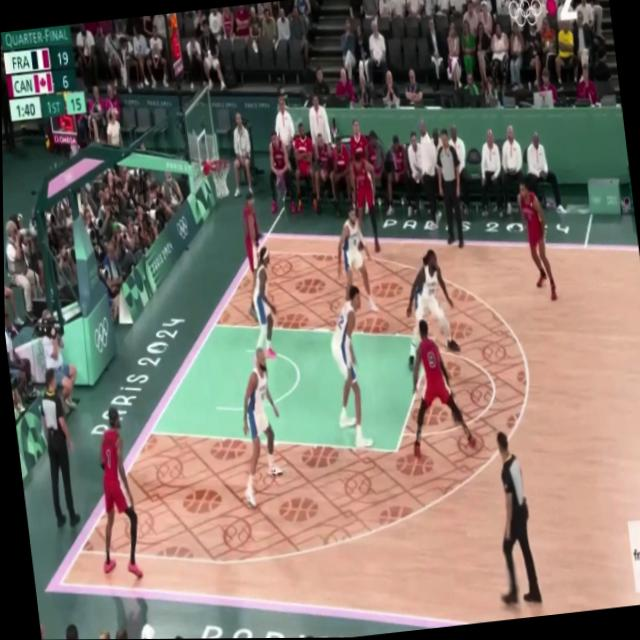ball_handler: (396, 315, 468, 455)
